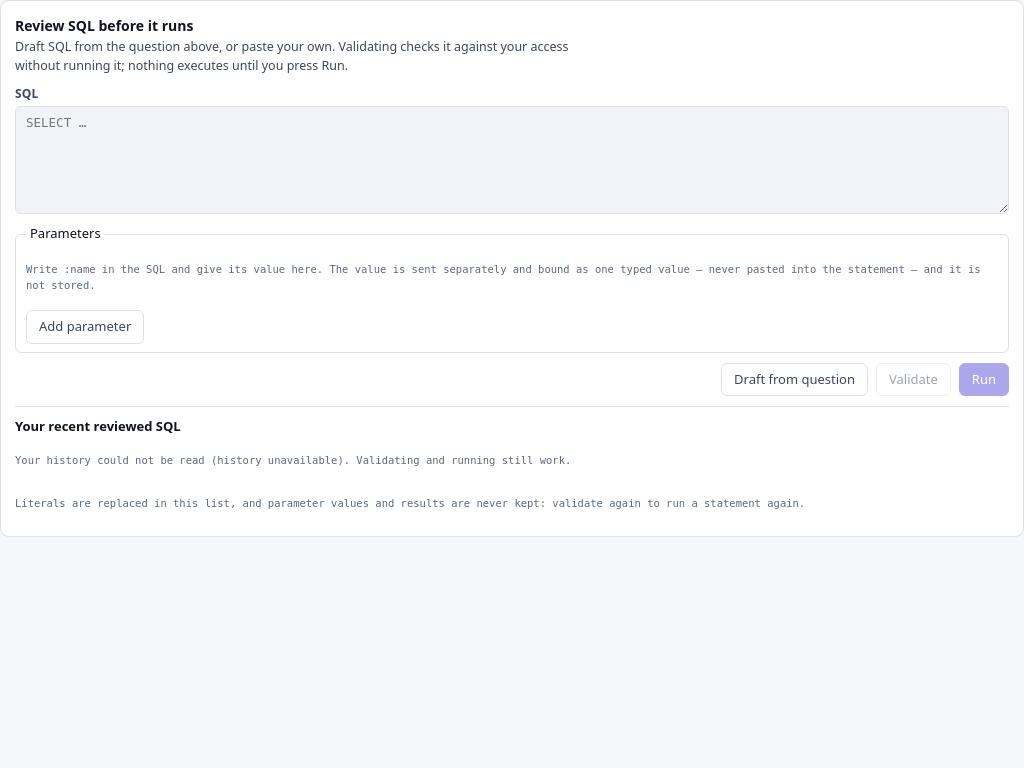
Test: SqlWorkspace history (R11-SQL01) › keeps working when the history cannot be read
Check: the text "could not be read" is shown, box [15,454,217,466]
Click the button "Draft from question": point(794, 380) [721,363,868,396]
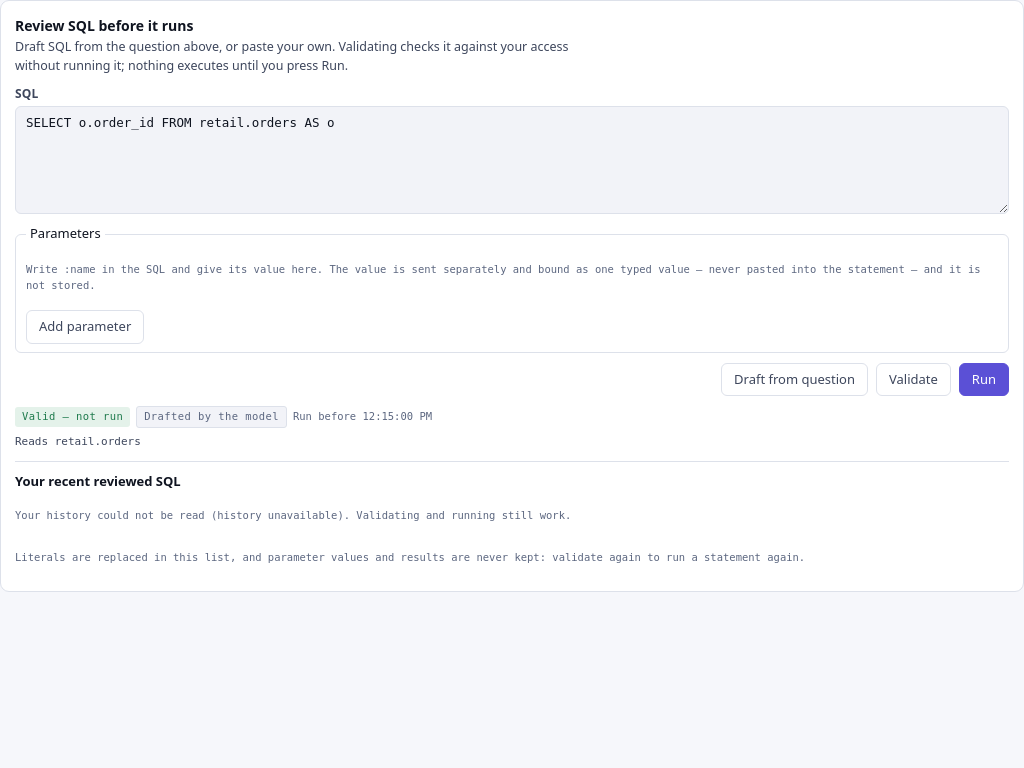
Check: the button "Run" is enabled, box [959,363,1009,396]
